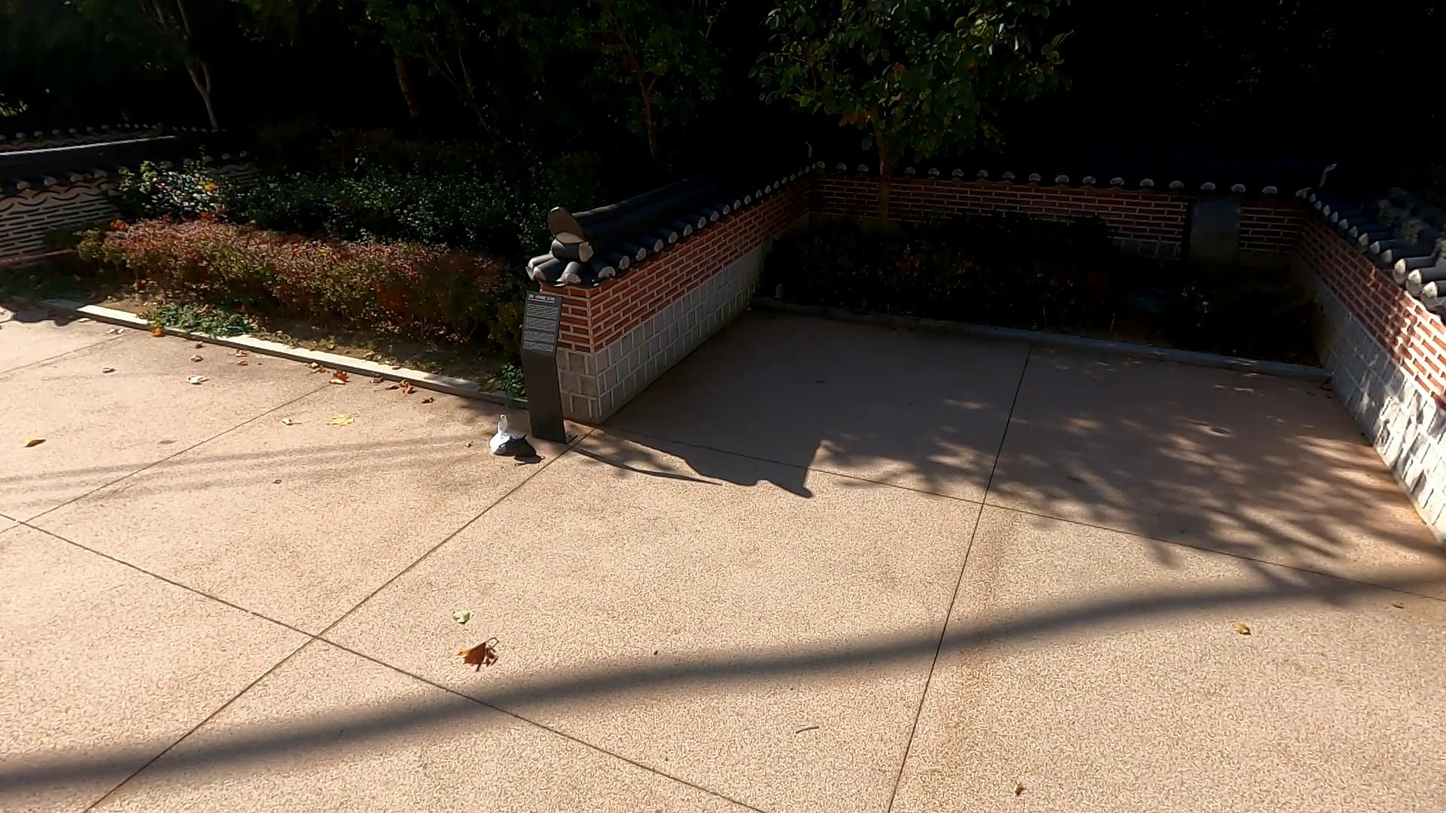trash: (491, 434, 541, 464), (487, 414, 522, 451)
